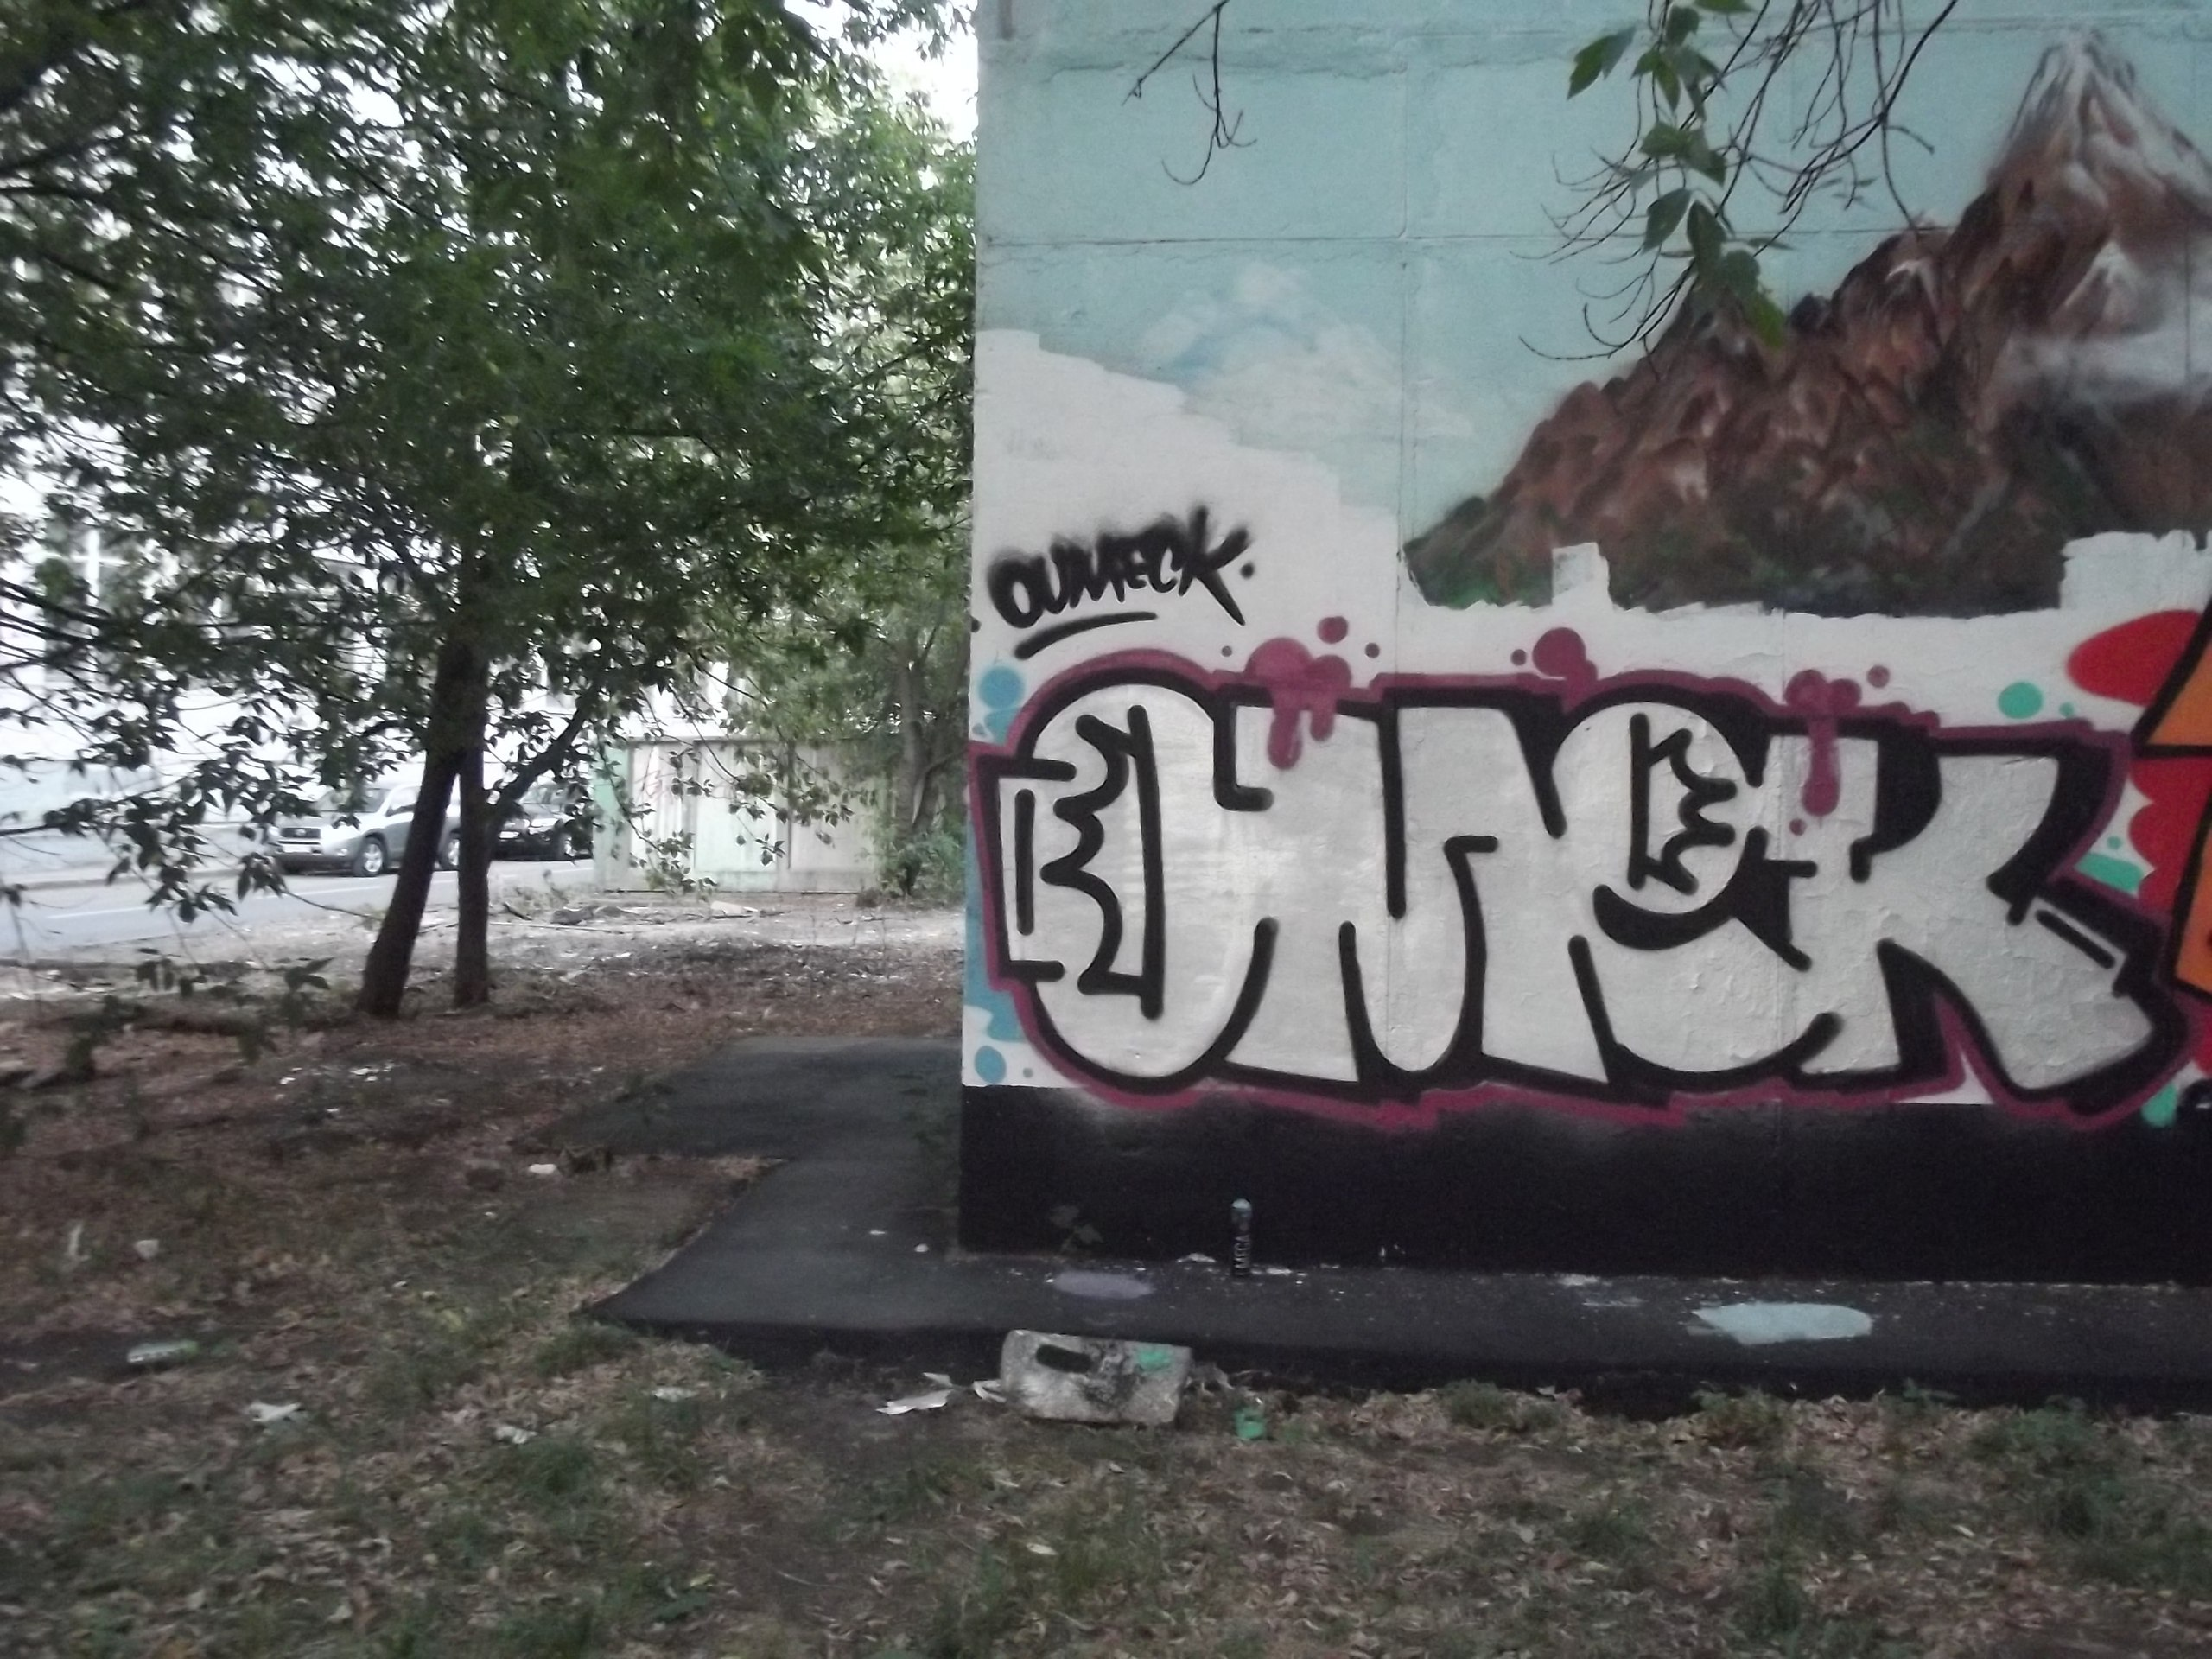graffity: (941, 608, 2209, 1145), (1397, 23, 2212, 615), (2045, 599, 2212, 1098), (968, 505, 1259, 655)
